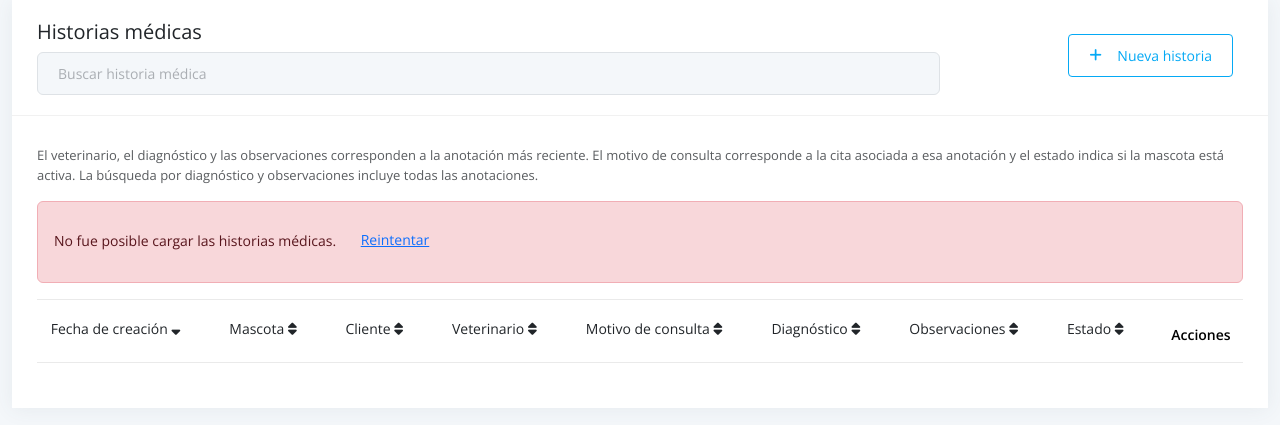
Test: HistoriaComponent › should display request errors and allow retrying
What coordinates should you click on to do the following:
click the button "Reintentar"
I would click on:
 (395, 240)
Its box is [340,218,450,261].
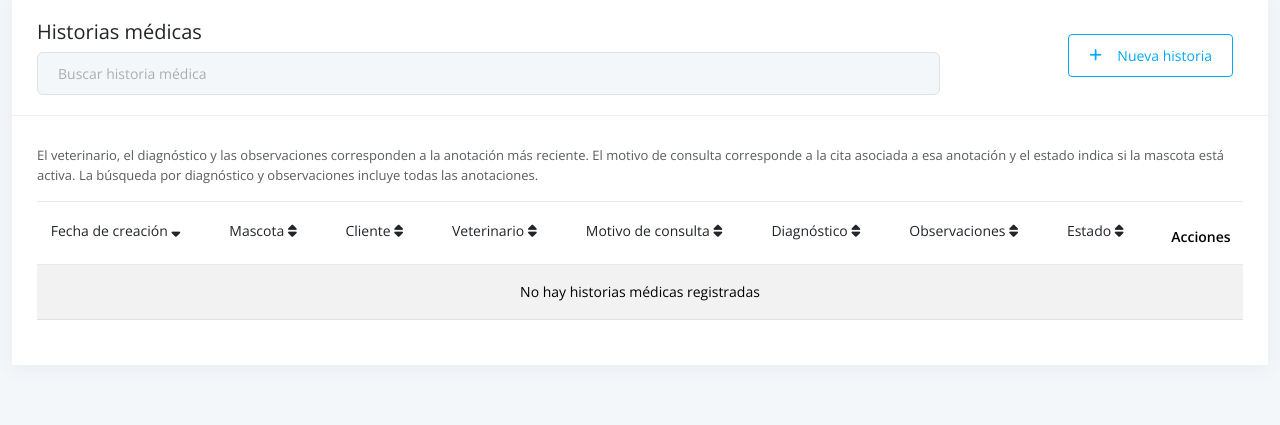
expect the message "No fue posible cargar las historias médicas. Reintentar" is gone: met
